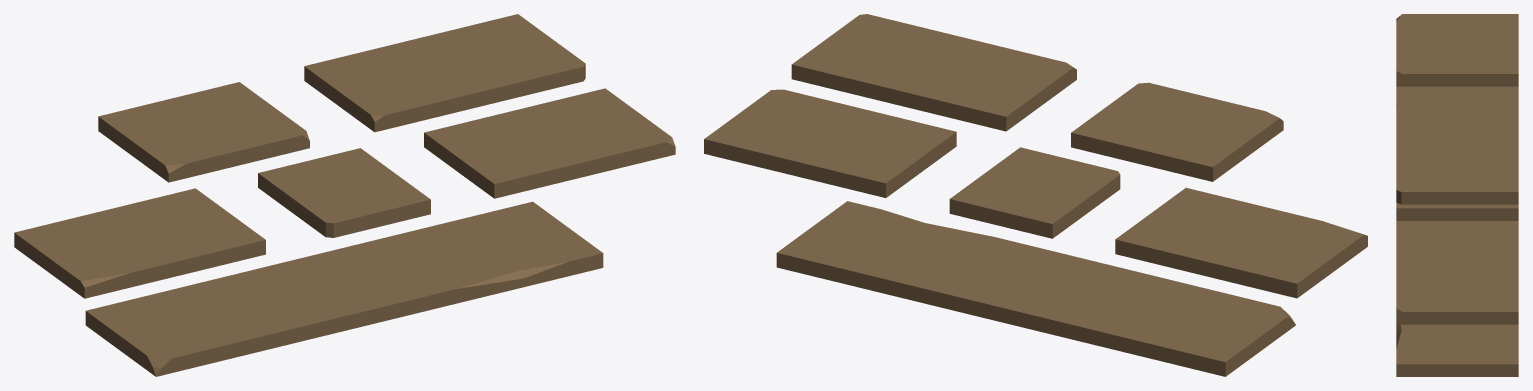
Rendered from SM_Prop_Shelf_Wall_02.glb.
The picture shows the model from 3 angles, left to right: view 1: azimuth 30°, elevation 25°; view 2: azimuth 150°, elevation 25°; view 3: azimuth 270°, elevation 25°; orthographic projection. The views are drawn at different scales.
Visible parts, largest first — view 1: SM_Prop_Shelf_Wall_02; view 2: SM_Prop_Shelf_Wall_02; view 3: SM_Prop_Shelf_Wall_02.
Boxes of the visible parts, left/top/right/bottom form: SM_Prop_Shelf_Wall_02: left=14, top=14, right=675, bottom=376; SM_Prop_Shelf_Wall_02: left=704, top=14, right=1367, bottom=376; SM_Prop_Shelf_Wall_02: left=1396, top=14, right=1518, bottom=376.
Bounding box in the file's own units: 2.12 × 0.7054 × 0.4375.
1 material, 1 textured.
